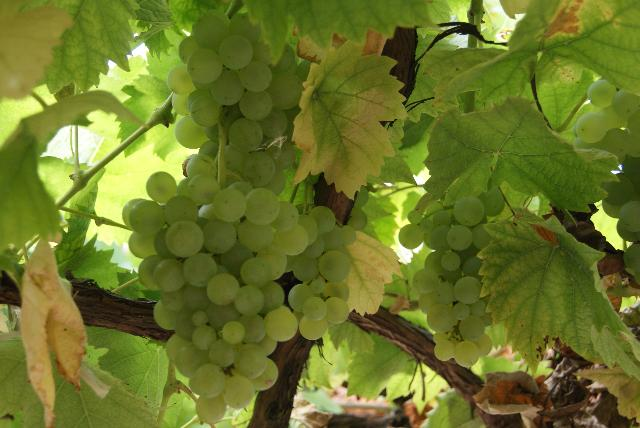grapes: (122, 169, 295, 424), (168, 10, 304, 186), (399, 188, 505, 368), (274, 204, 356, 340), (575, 80, 640, 244)
